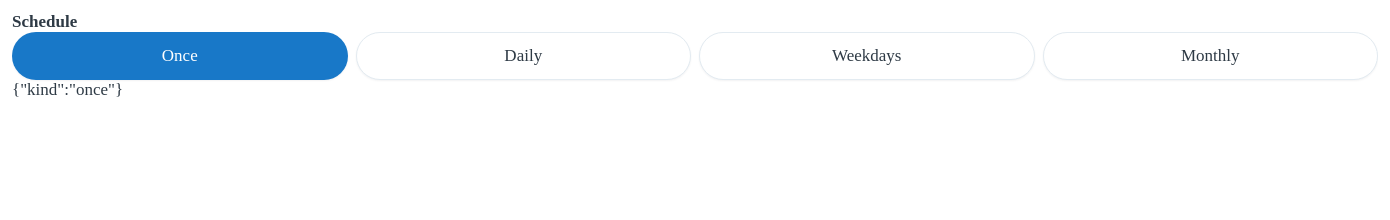
Scenario: BountyRecurrenceEditor › Once has no date or time input; Daily starts on the Household date
Expected: the field labelled "Starting date" is not shown
Click the button "Daily".
click(523, 56)  # box [356,32,691,80]
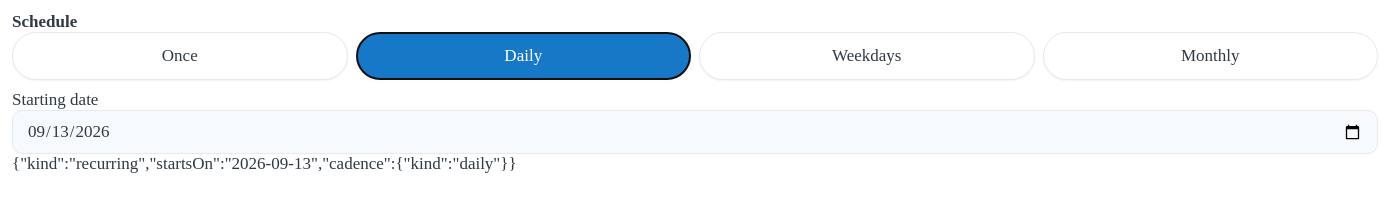
Result: the date field labelled "Starting date" holds "2026-09-13"
Clear the date field labelled "Starting date" at (695, 132), box [12,110,1378,154]
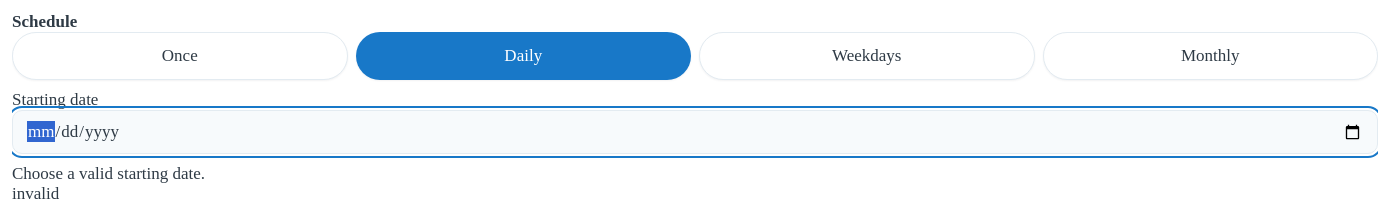
Result: the text named "Validated recurrence" reads "invalid" at [12,184,59,203]
